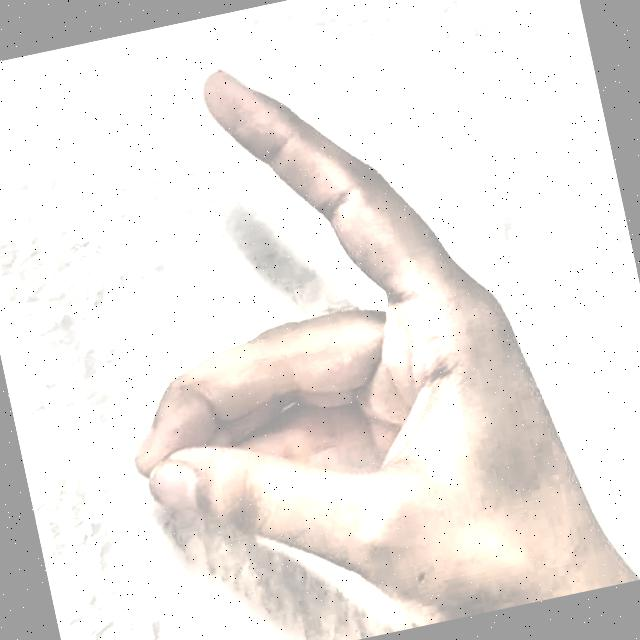Dha: (52, 0, 635, 640)
